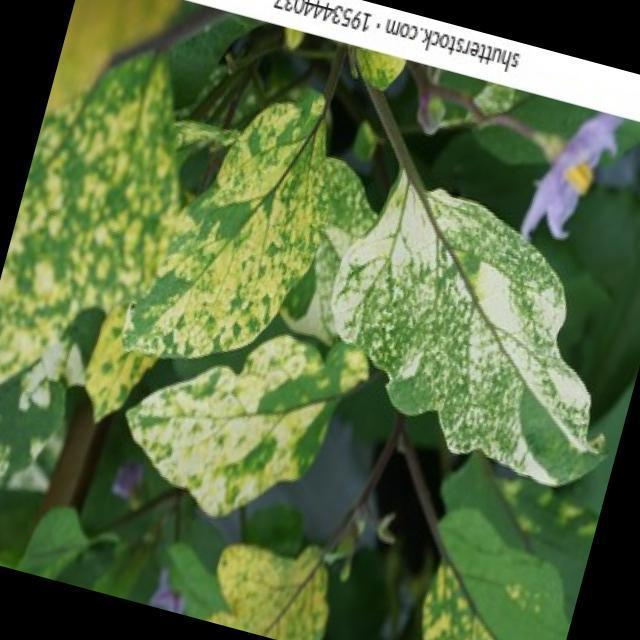Mosaic Virus: (327, 173, 640, 473), (0, 17, 199, 436), (132, 59, 370, 382), (136, 344, 325, 522), (405, 546, 570, 640)
